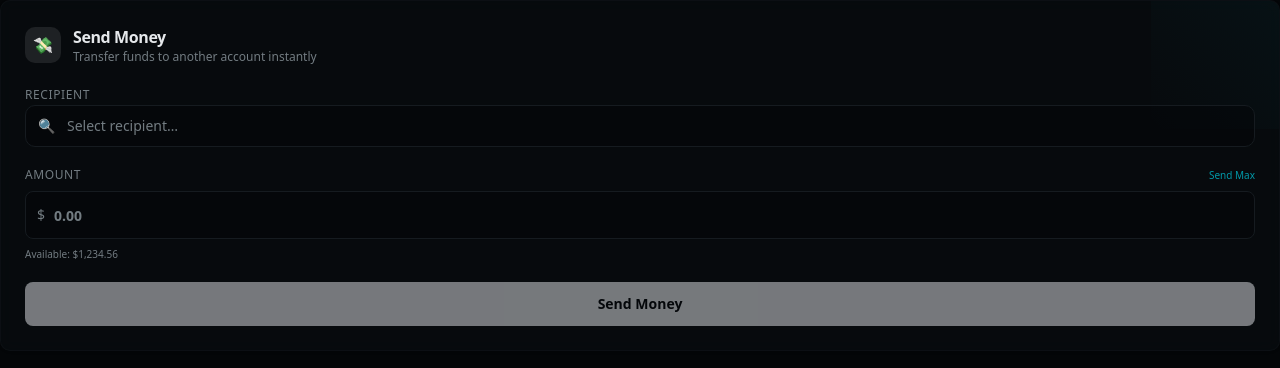
Test: TransferForm › shows "Send Max" button that fills balance
The width and height of the screenshot is (1280, 368).
Click the button "Send Max" at (1232, 175), box [1209, 168, 1255, 182]
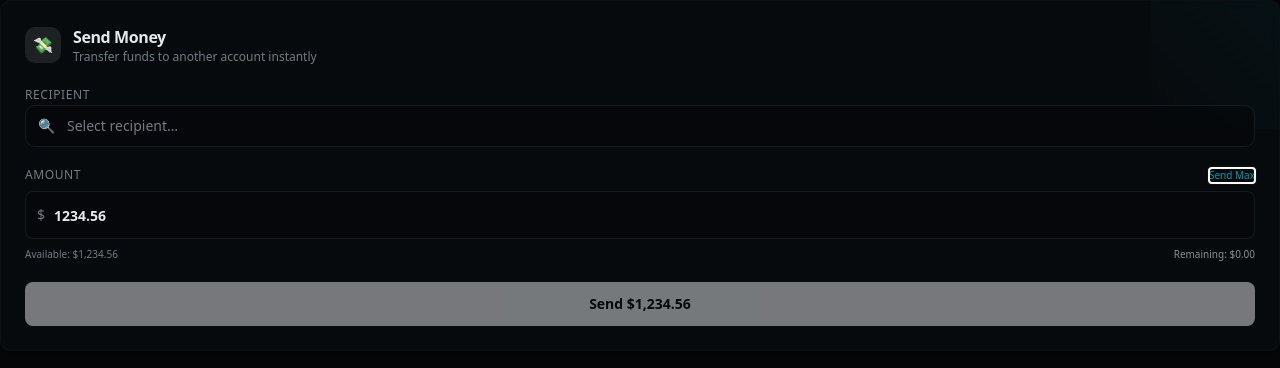
Check: the number field with placeholder "0.00" holds "1234.56", box [25, 191, 1255, 239]
